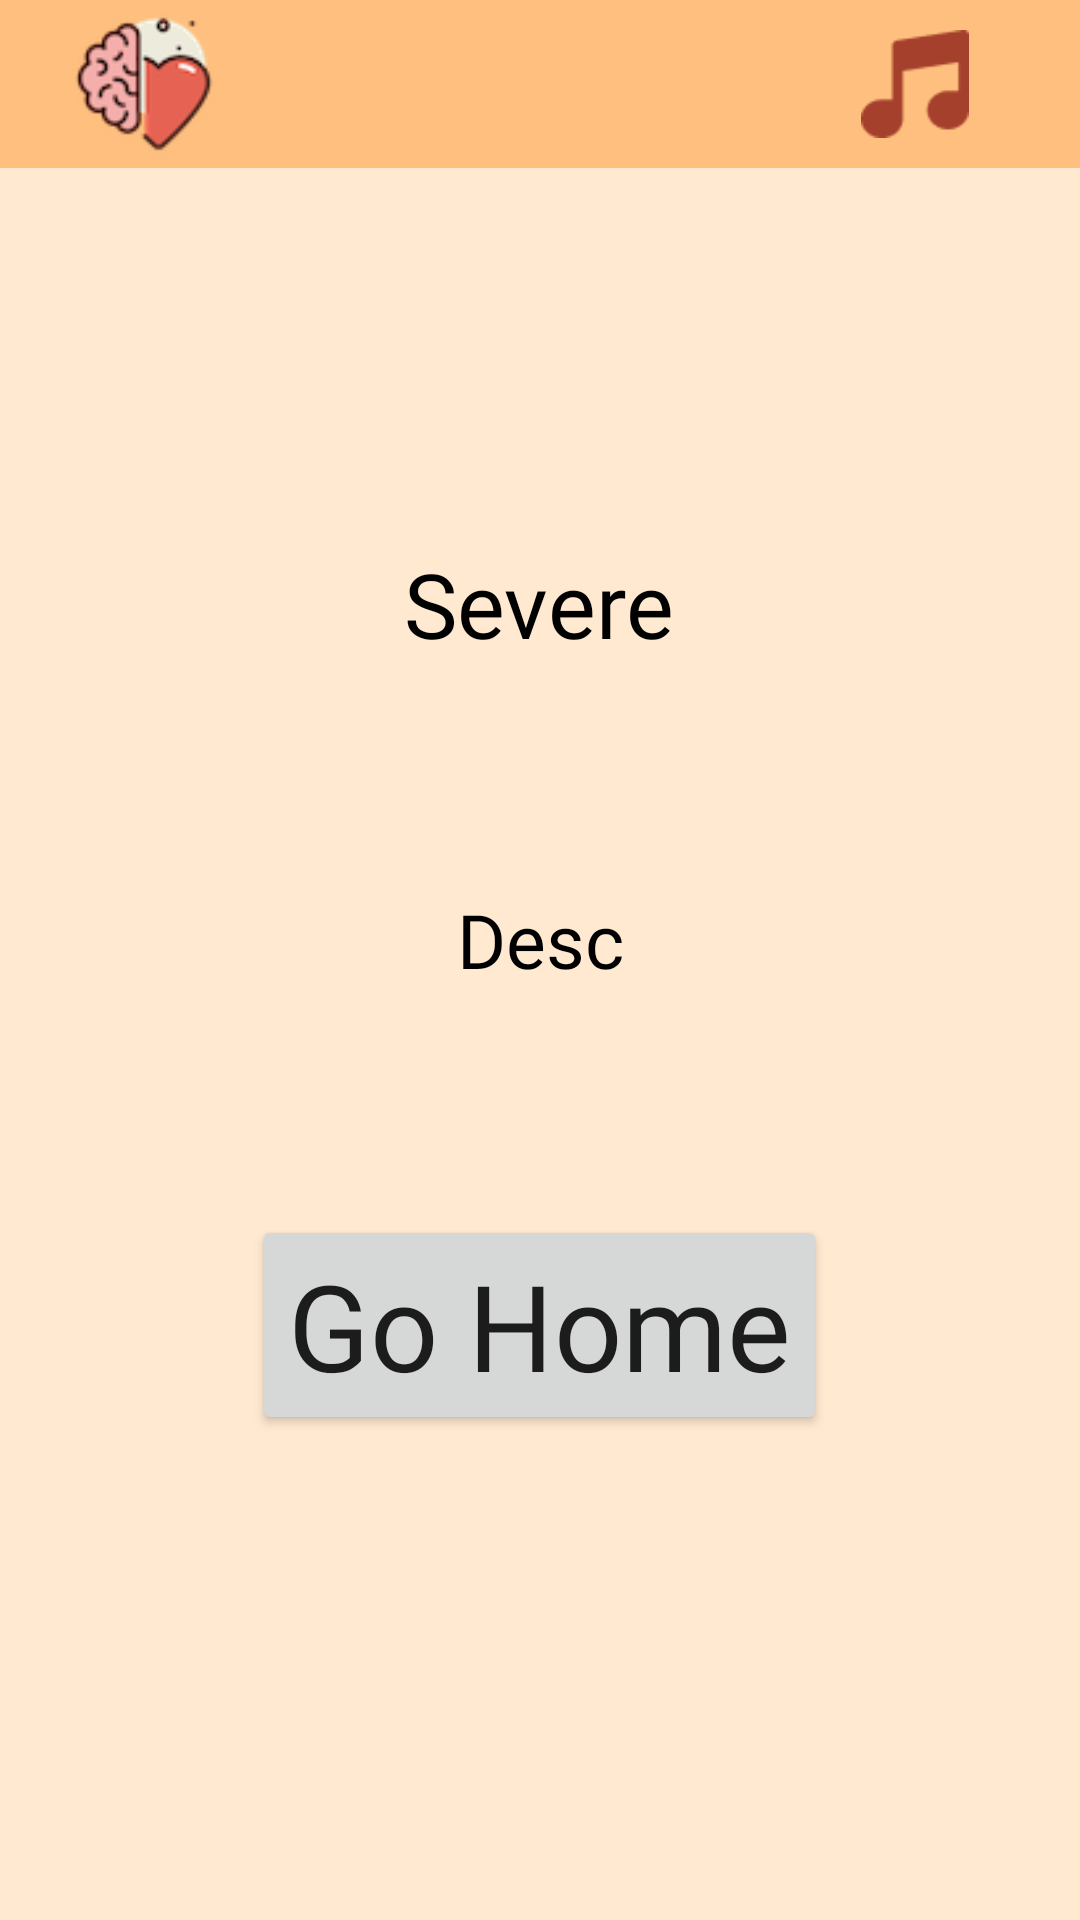

Icon click points for this 1080×1920 phone screenshot, format point (x, y):
music: point (915, 84)
